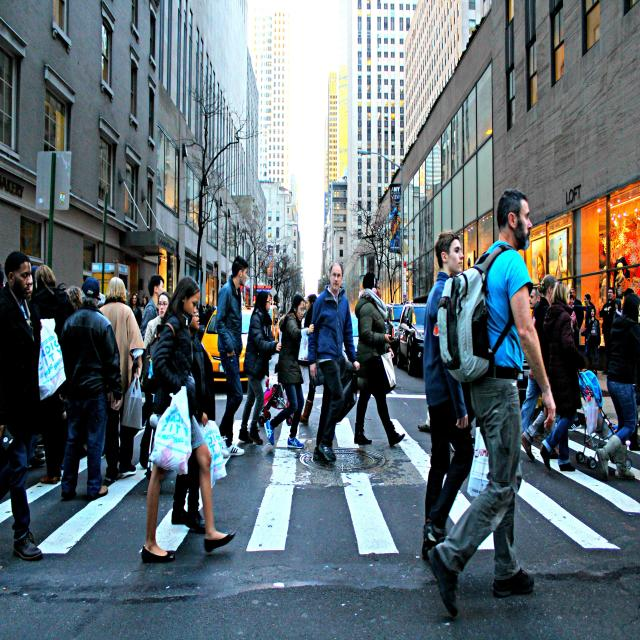body: (426, 186, 560, 624), (137, 275, 238, 567), (419, 229, 478, 564), (56, 274, 124, 502), (0, 249, 48, 563), (306, 261, 361, 463), (29, 264, 76, 486), (98, 275, 147, 483), (538, 280, 590, 473), (352, 270, 406, 448), (595, 292, 640, 482), (263, 292, 315, 451), (213, 254, 250, 458), (6, 271, 42, 471), (520, 274, 558, 462), (238, 289, 283, 447), (190, 303, 217, 535), (597, 245, 636, 349), (519, 285, 542, 434), (299, 294, 323, 426), (534, 238, 573, 298), (598, 286, 619, 376), (572, 293, 596, 371), (140, 273, 166, 341), (143, 290, 172, 348), (56, 282, 109, 310), (584, 304, 601, 378), (570, 288, 584, 352), (568, 294, 579, 351), (129, 293, 143, 330), (416, 406, 434, 433), (129, 293, 147, 319), (198, 303, 216, 326), (30, 266, 40, 293), (613, 298, 623, 320), (0, 262, 5, 291), (142, 295, 150, 311)
